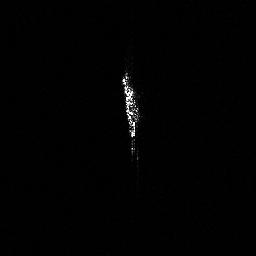ship: (117, 67, 146, 160)
